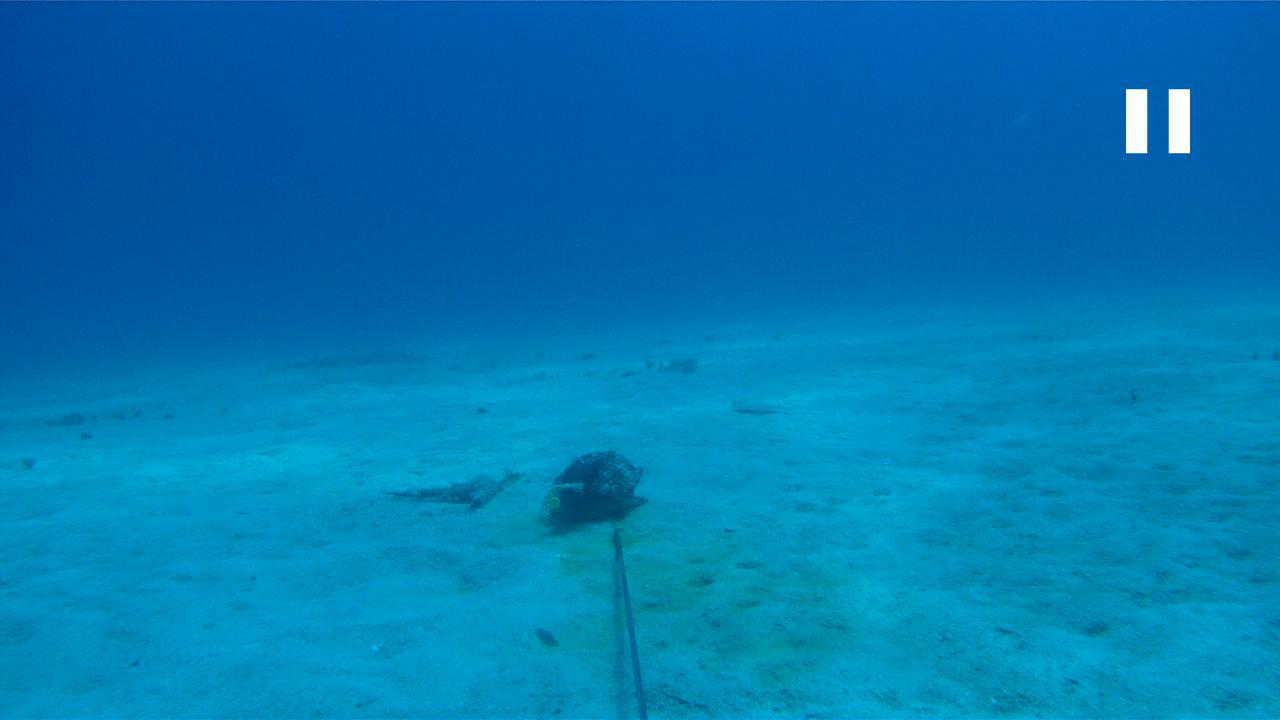bothus: (726, 392, 788, 412)
